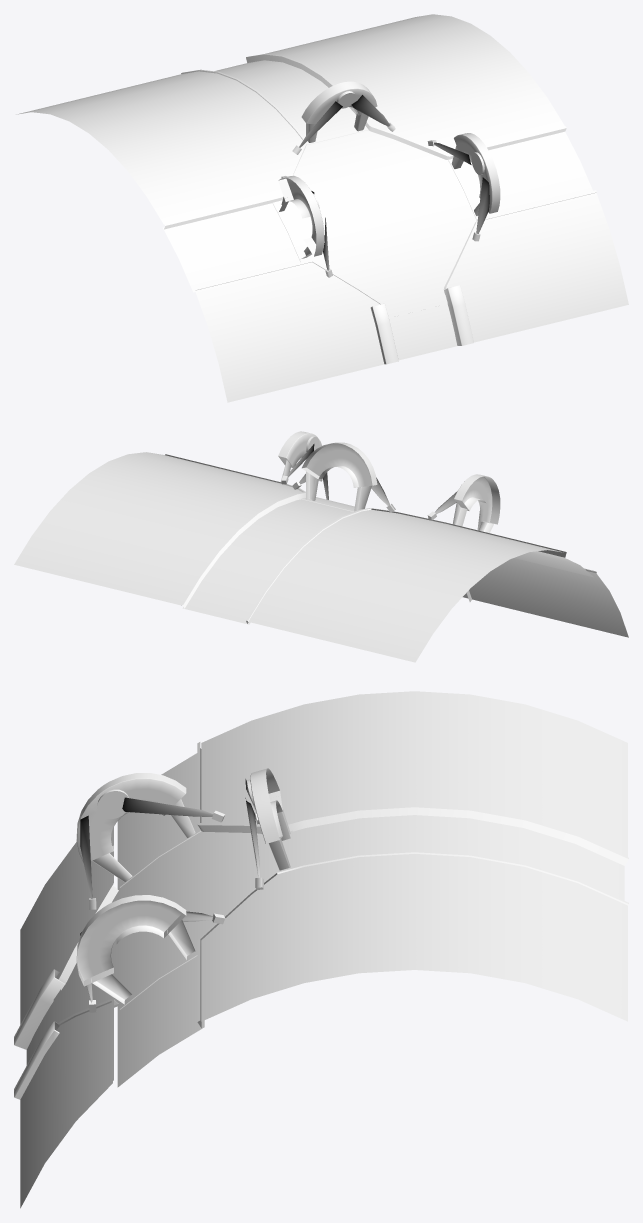
Rendered from grd_Ex_c_0.dae.
3 views of the same model, one above another, from view 1: azimuth 30°, elevation 25°; view 2: azimuth 150°, elevation 25°; view 3: azimuth 270°, elevation 25° (orthographic). The views are drawn at different scales.
Visible parts, largest first — view 1: grass_1_0, road5_4_0, arch_0_0, renga0_3_0, road5_5_0, beam2_2_0; view 2: grass_1_0, road5_4_0, arch_0_0, renga0_3_0, beam2_2_0; view 3: grass_1_0, road5_4_0, arch_0_0, renga0_3_0, beam2_2_0.
Part boxes in pixels (x1,y1,x2,y2): grass_1_0: (16, 14, 628, 402); road5_4_0: (163, 60, 592, 308); arch_0_0: (278, 81, 500, 364); renga0_3_0: (164, 54, 596, 317); road5_5_0: (389, 304, 457, 360); beam2_2_0: (299, 95, 489, 270); grass_1_0: (14, 452, 628, 662); road5_4_0: (182, 497, 594, 624); arch_0_0: (278, 431, 500, 601); renga0_3_0: (165, 454, 596, 623); beam2_2_0: (287, 444, 481, 530); grass_1_0: (20, 691, 627, 1208); road5_4_0: (61, 753, 624, 1087); arch_0_0: (14, 768, 290, 1099); renga0_3_0: (53, 742, 628, 1082); beam2_2_0: (80, 779, 259, 1002).
Size of the model in its own units: 768 by 383 by 716.
6 materials, 1 textured.
